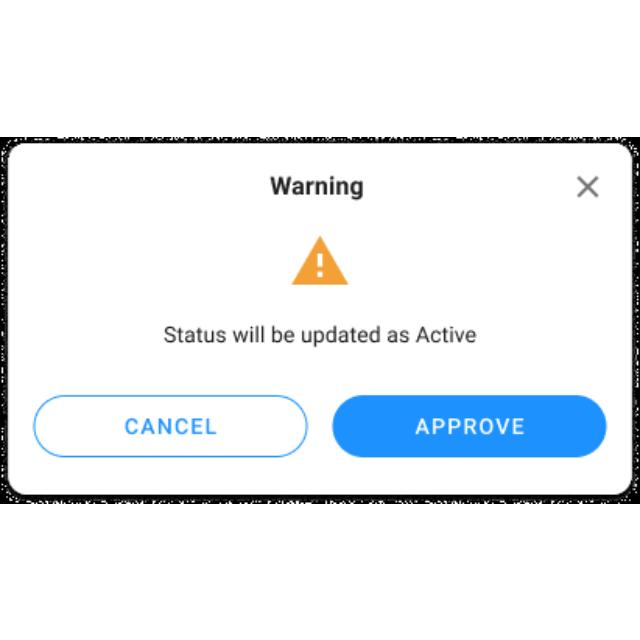QLabel: (157, 322, 475, 346), (266, 174, 366, 200), (414, 414, 526, 436), (121, 414, 221, 434)
VBtn: (32, 394, 308, 458), (332, 396, 610, 458)
VDialog: (8, 140, 632, 494)
VIcon: (288, 232, 352, 288), (574, 173, 602, 199)
